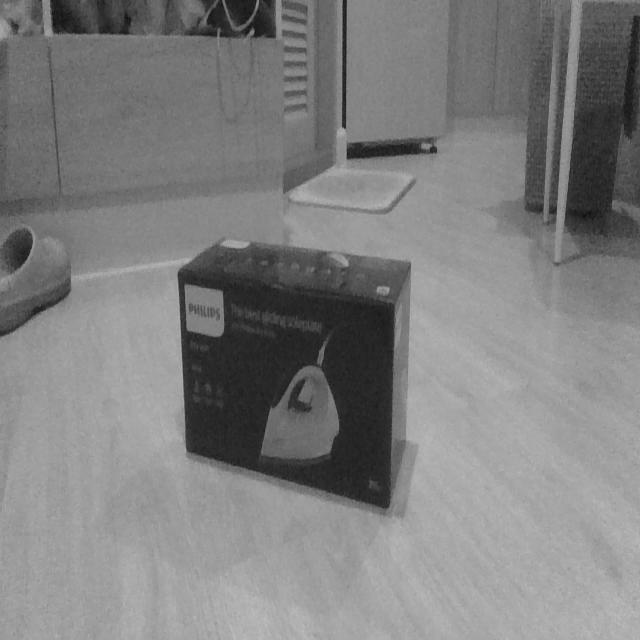IRON: (175, 233, 413, 515)
